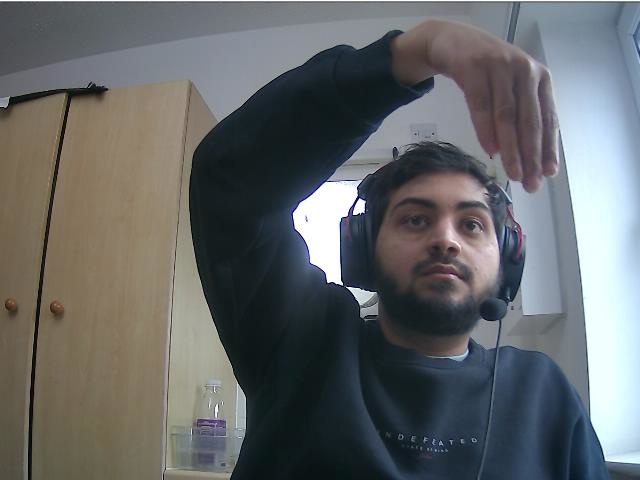down: (454, 29, 560, 191)
